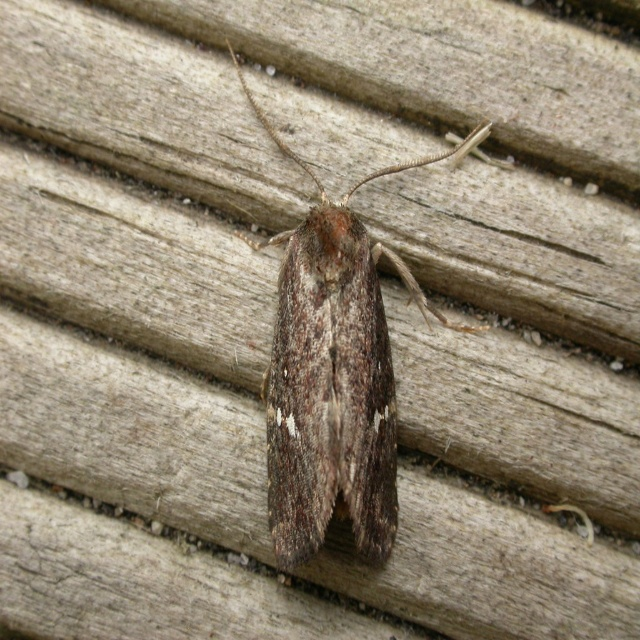Moths and butterflies: (224, 37, 489, 572)
